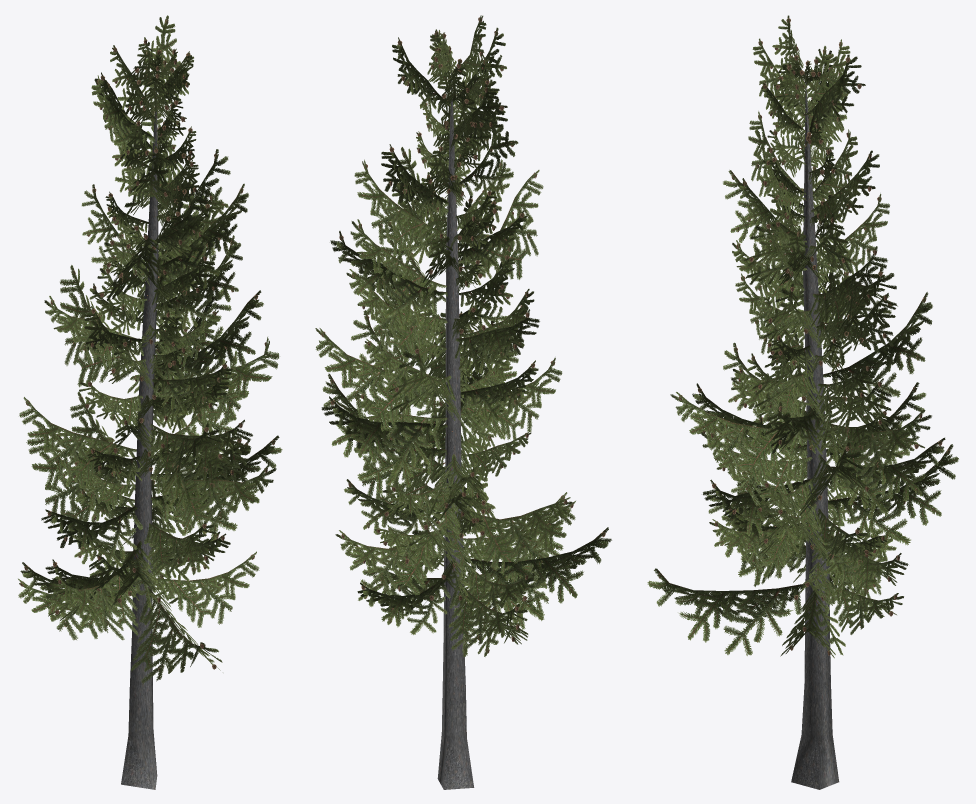
Rendered from Pinus_Contorta_Autumn_Adult.glb.
3 views of the same model, side by side, from view 1: azimuth 30°, elevation 25°; view 2: azimuth 150°, elevation 25°; view 3: azimuth 270°, elevation 25° (orthographic).
Parts seen in each view (by area): view 1: Pinus_Contorta_Autumn_Adult__LOD3; view 2: Pinus_Contorta_Autumn_Adult__LOD3; view 3: Pinus_Contorta_Autumn_Adult__LOD3.
Part boxes in pixels (x1=…): Pinus_Contorta_Autumn_Adult__LOD3: x1=18, y1=15, x2=282, y2=789; Pinus_Contorta_Autumn_Adult__LOD3: x1=315, y1=15, x2=611, y2=789; Pinus_Contorta_Autumn_Adult__LOD3: x1=647, y1=15, x2=958, y2=789.
Size of the model in its own units: 14.86 by 43.04 by 16.25.
Materials: 3 (3 with a texture image).
